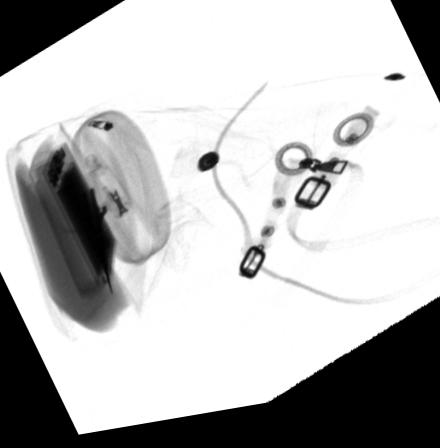Powerbank: (38, 140, 121, 291)
Scissors: (61, 159, 130, 312)
